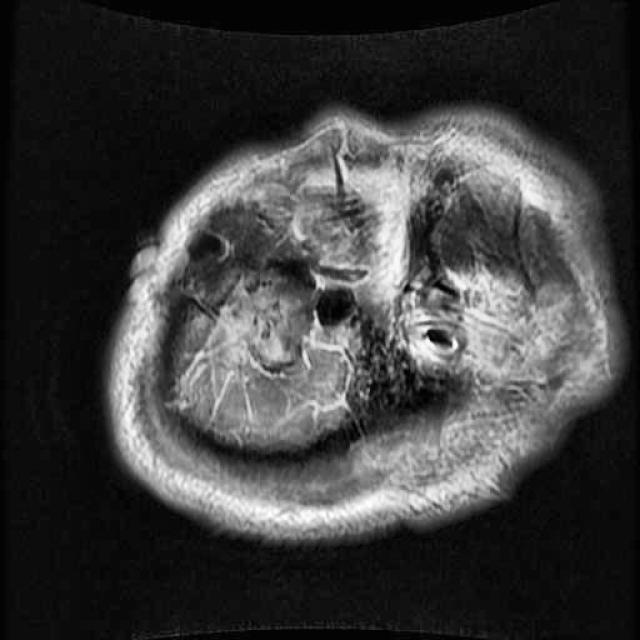Tumor: (213, 259, 321, 385)
